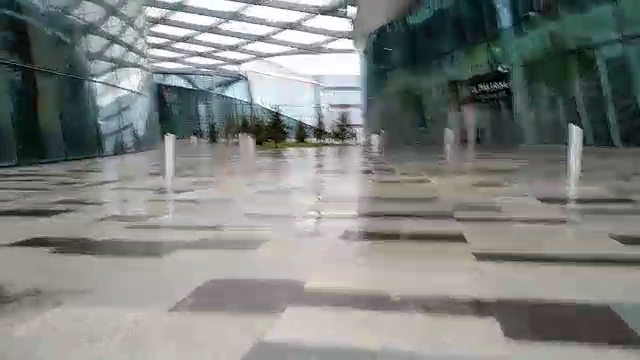ilmalione: (445, 72, 527, 111)
